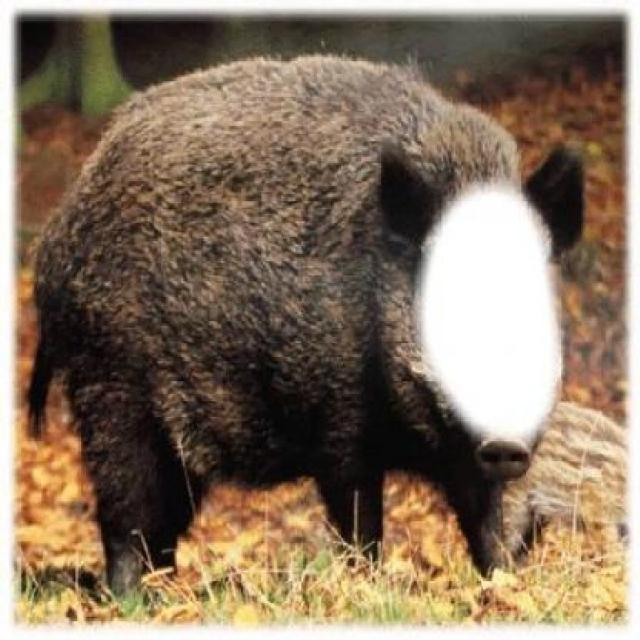wildboar: (21, 53, 592, 612)
